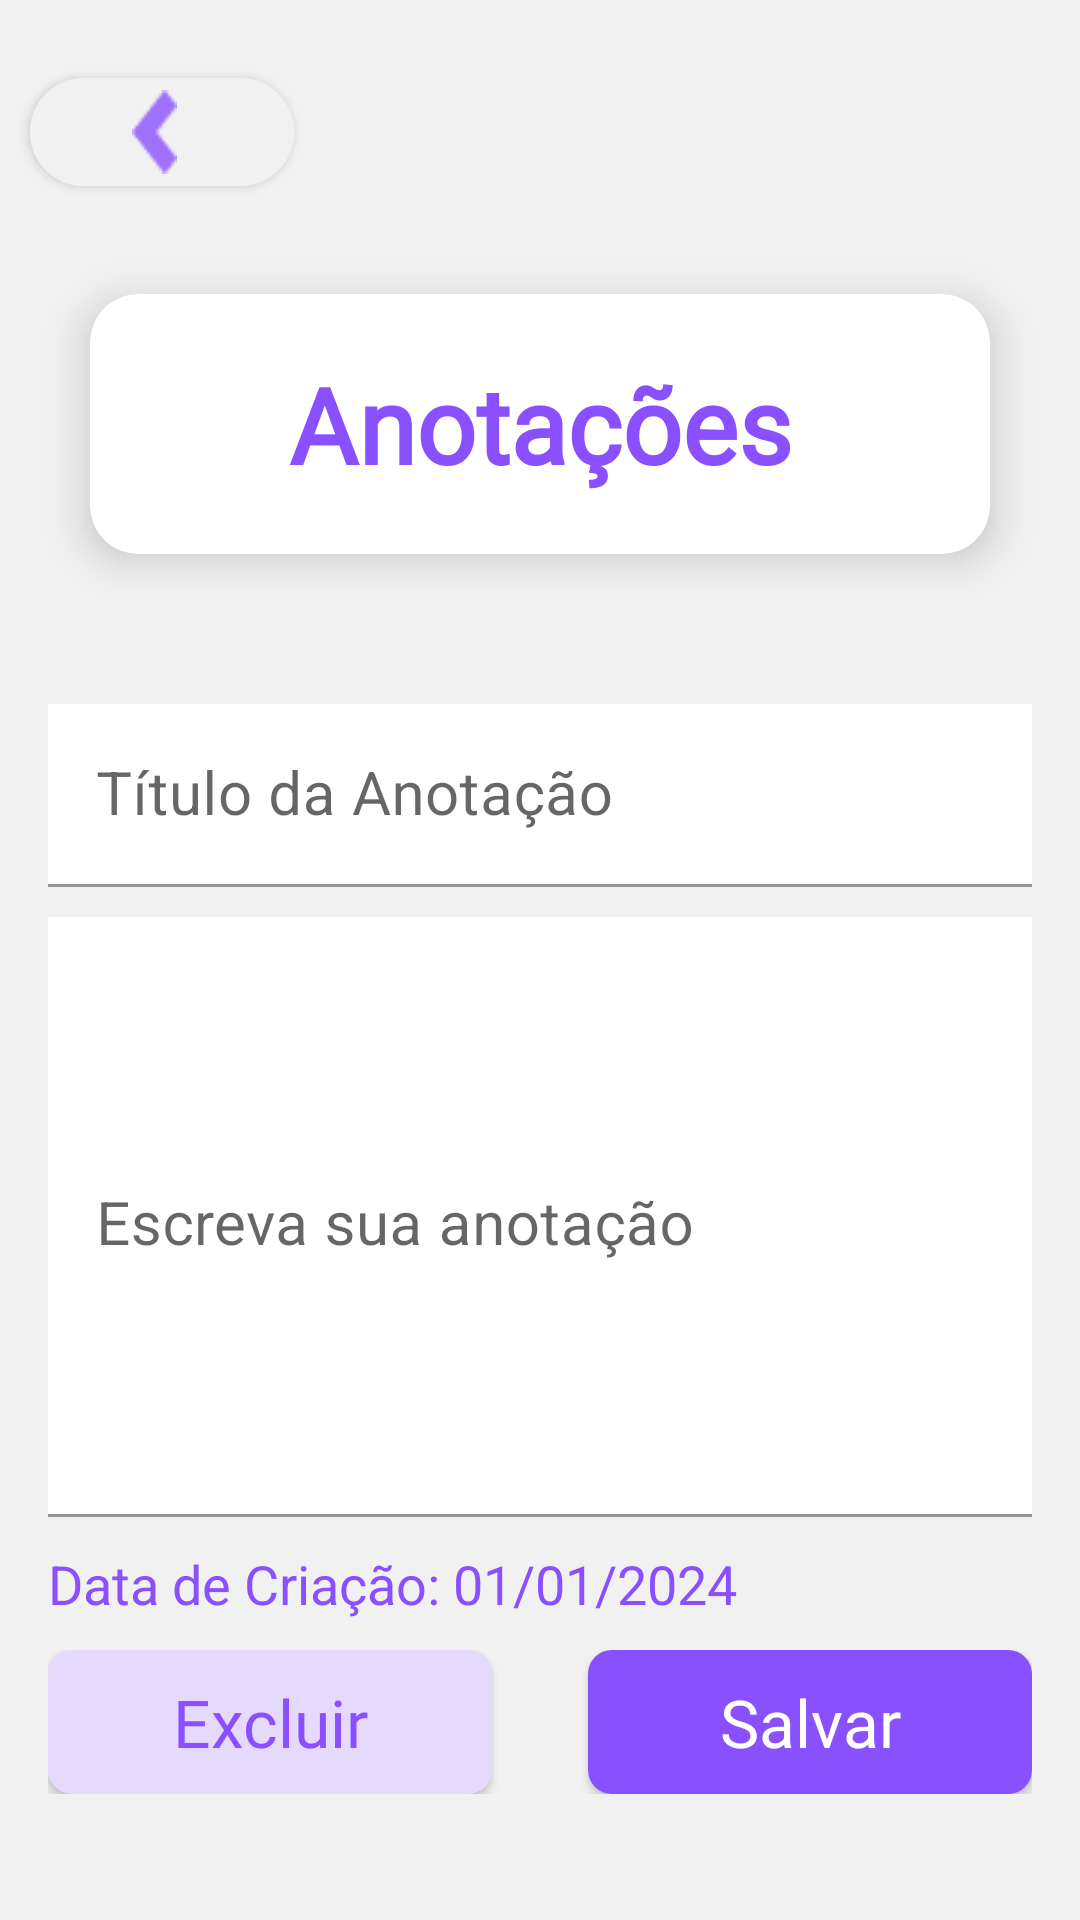

Where icons sit on this 1080*1920 app screen, as (x1, y1, x2, y2):
Voltar: (30, 90, 177, 174)
